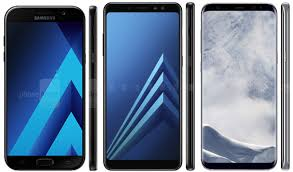samsung: (101, 1, 184, 172), (1, 6, 85, 170)
